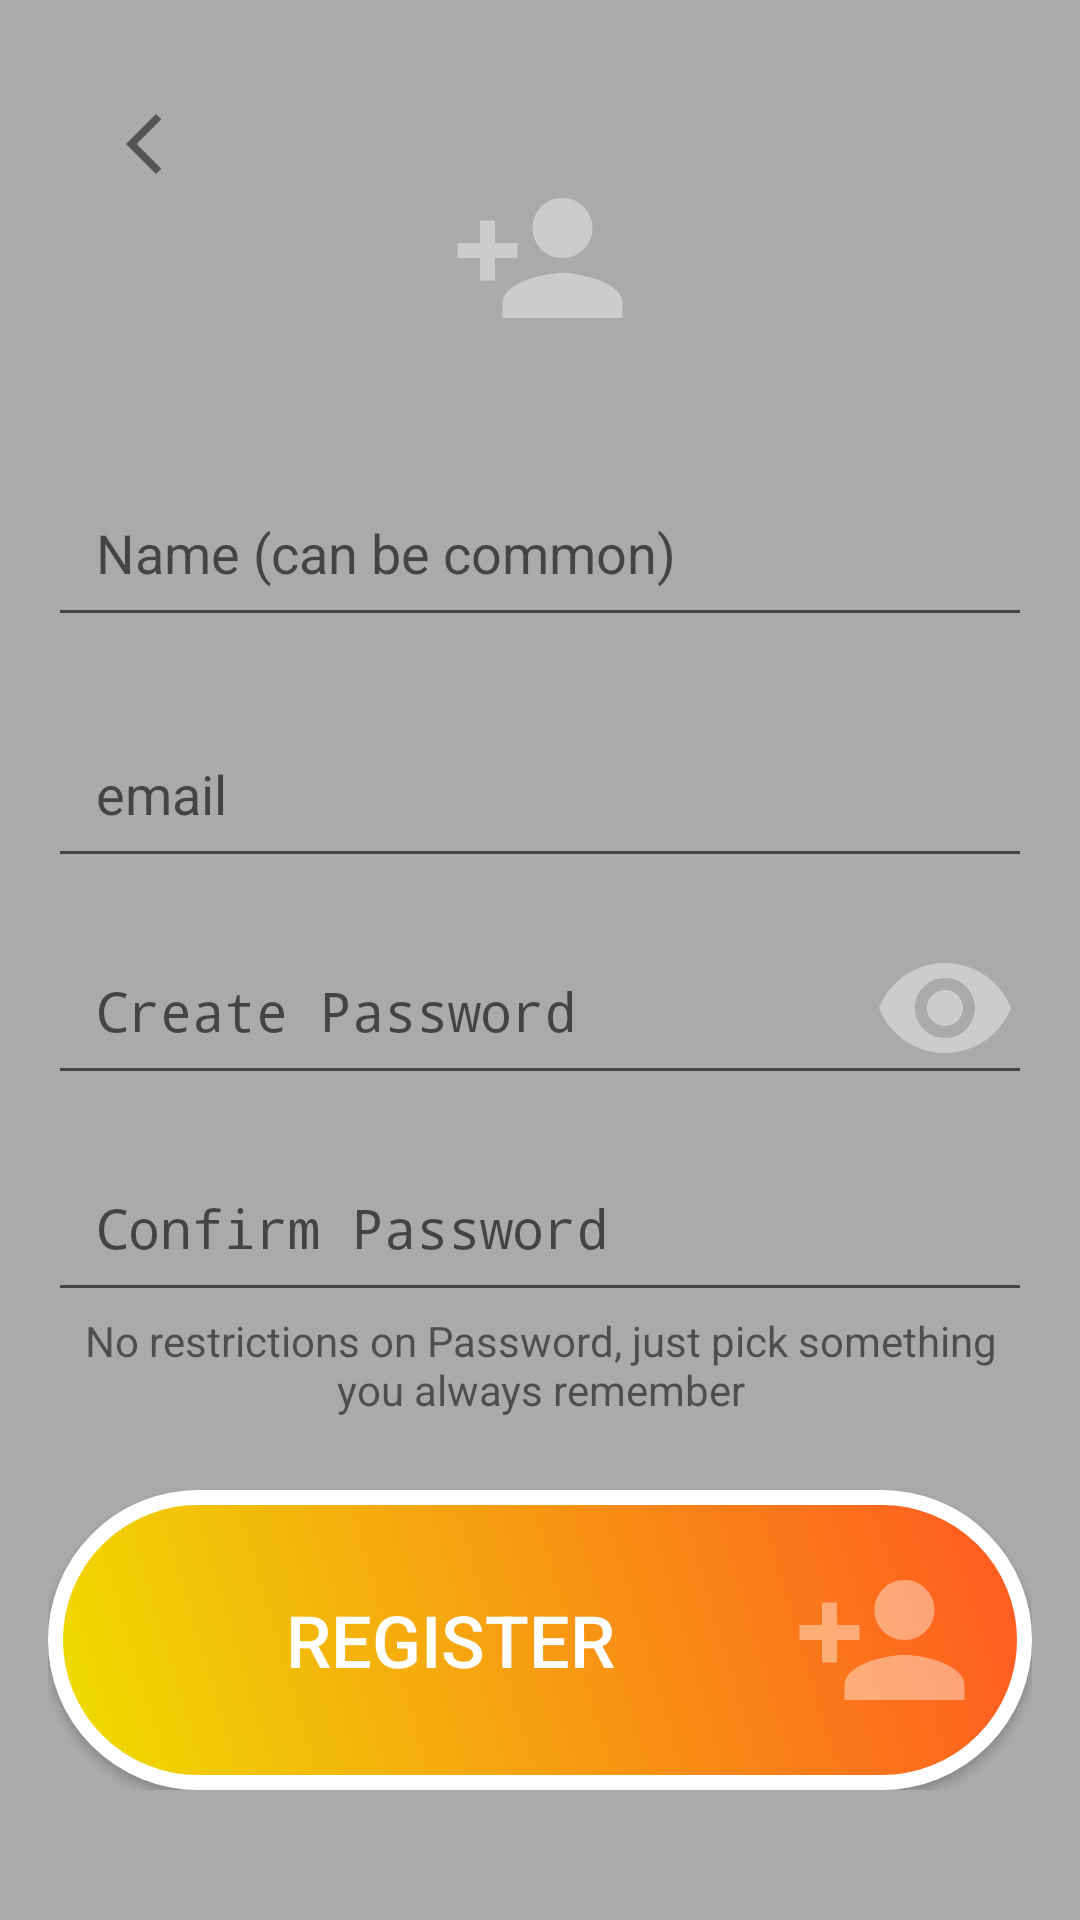

Icons on this 1080×1920 Android screen, each with the point to tap as point (x, y):
arrow back: point (143, 144)
eye: point (945, 1008)
